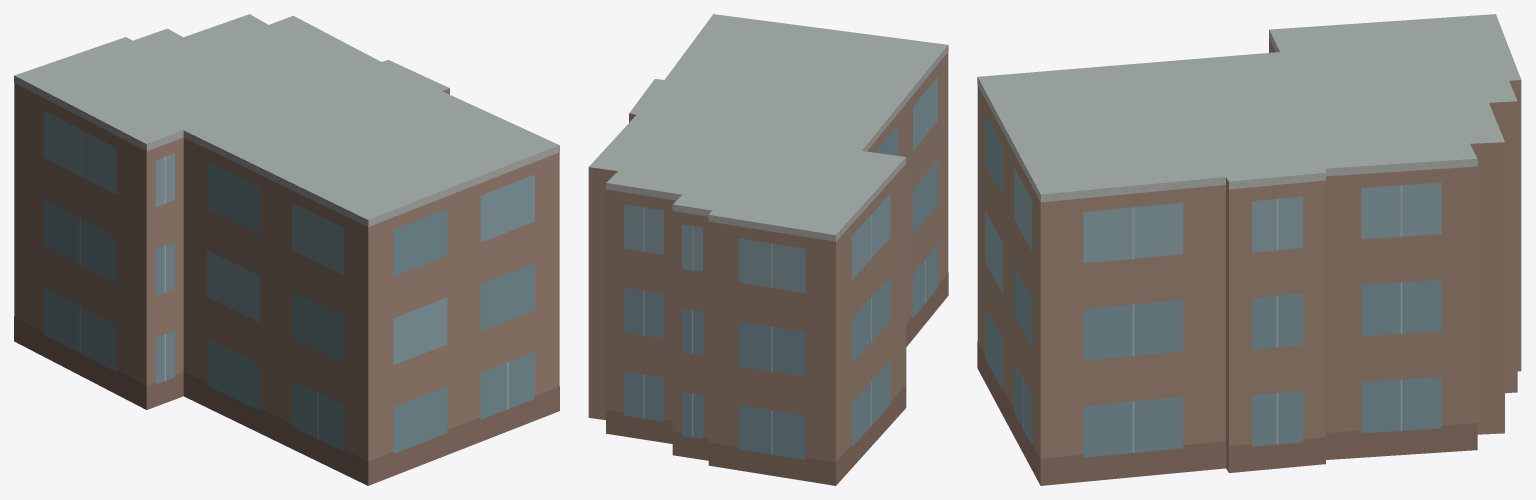
Rendered from survey-upis-32670197.glb.
The picture shows the model from 3 angles, left to right: view 1: azimuth 30°, elevation 25°; view 2: azimuth 150°, elevation 25°; view 3: azimuth 270°, elevation 25°; orthographic projection. The views are drawn at different scales.
Parts seen in each view (by area): view 1: survey-upis-32670197.tmp; view 2: survey-upis-32670197.tmp; view 3: survey-upis-32670197.tmp.
Boxes of the visible parts, left/top/right/bottom form: survey-upis-32670197.tmp: left=14, top=14, right=559, bottom=485; survey-upis-32670197.tmp: left=588, top=14, right=948, bottom=485; survey-upis-32670197.tmp: left=977, top=14, right=1521, bottom=485.
Bounding box in the file's own units: 12.18 × 9.15 × 15.5.
